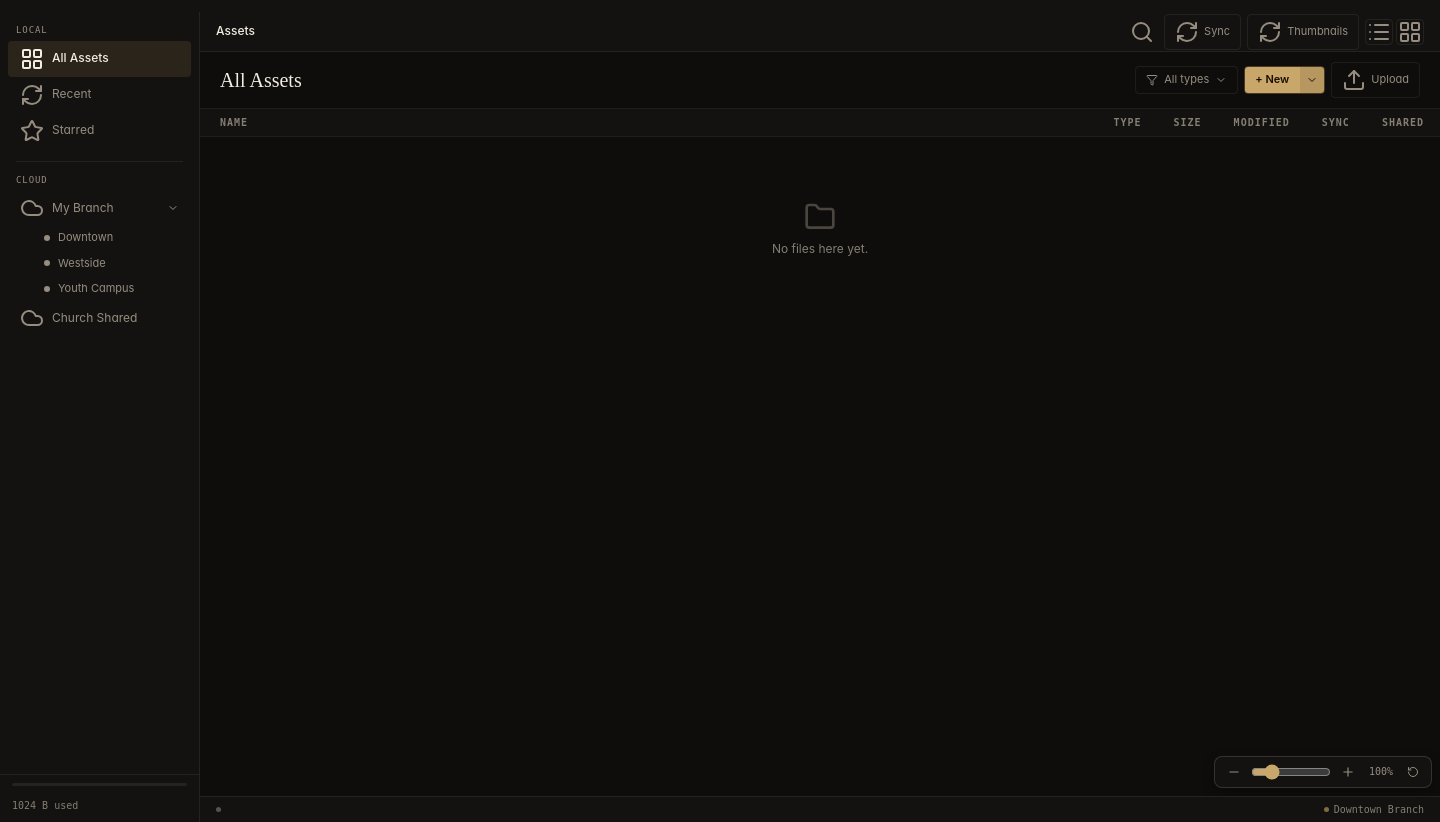
Test: AssetsScreen › shows search input when search button is clicked
What coordinates should you click on to do the following:
click the button titled "Search"
I would click on:
 (1142, 32)
Its box is top-left (1126, 16), bottom-right (1158, 48).
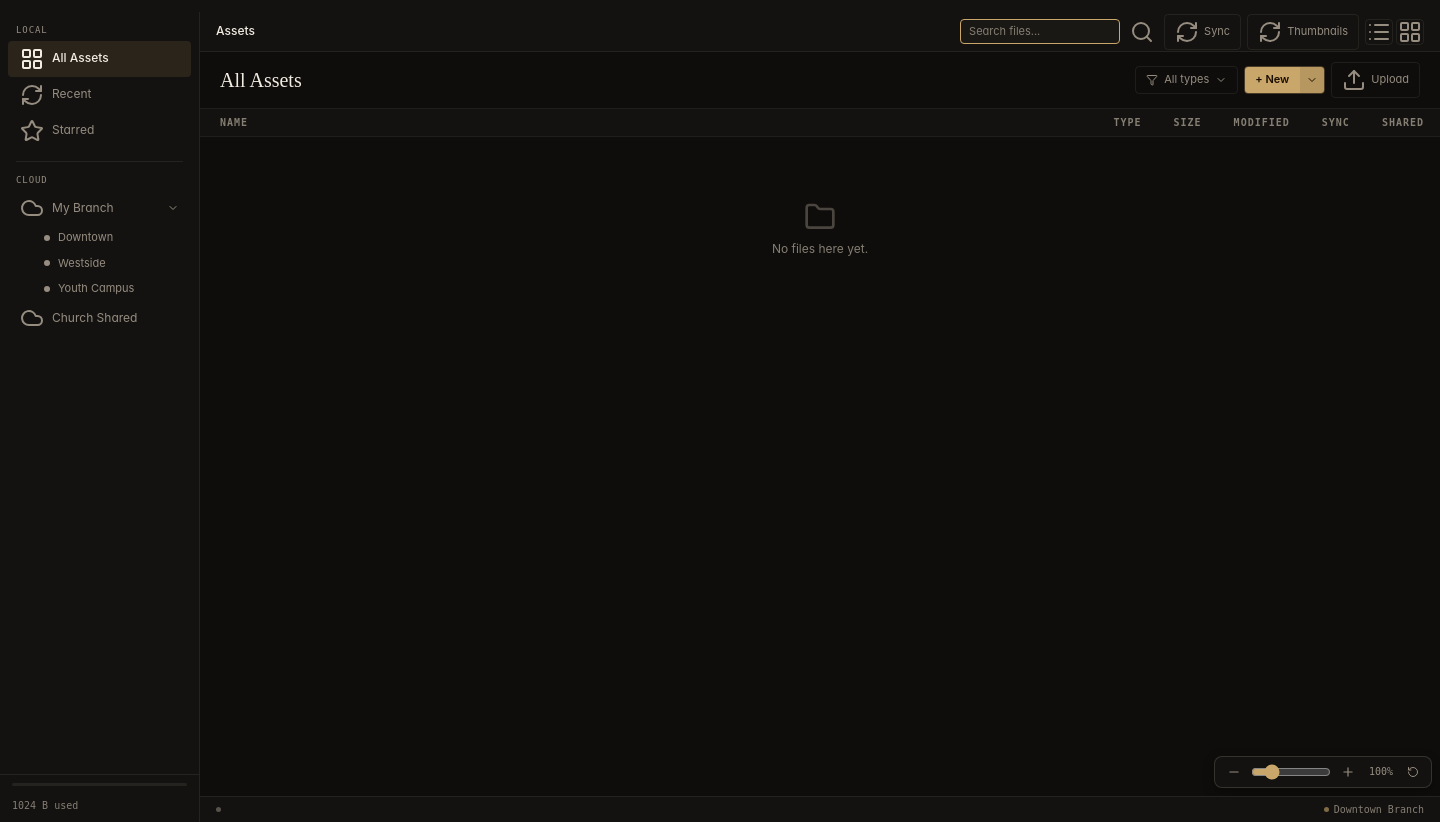
Check: the search field with placeholder "Search files..." is shown, box top-left (960, 19), bottom-right (1120, 44)
